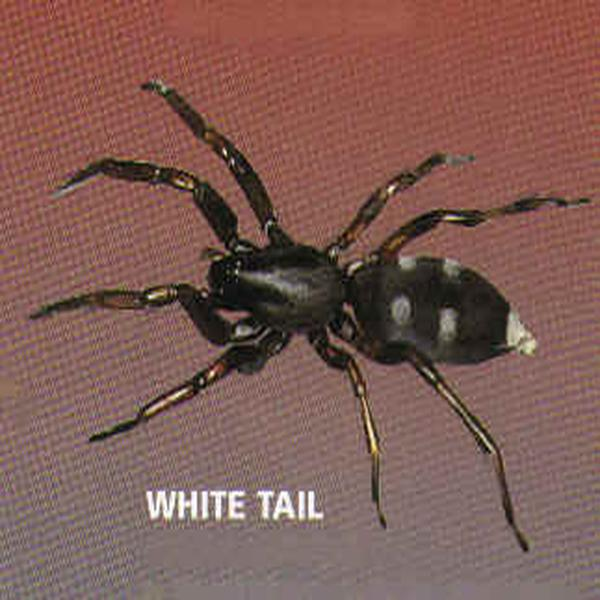White-Tailed Spider: (63, 98, 571, 534)
